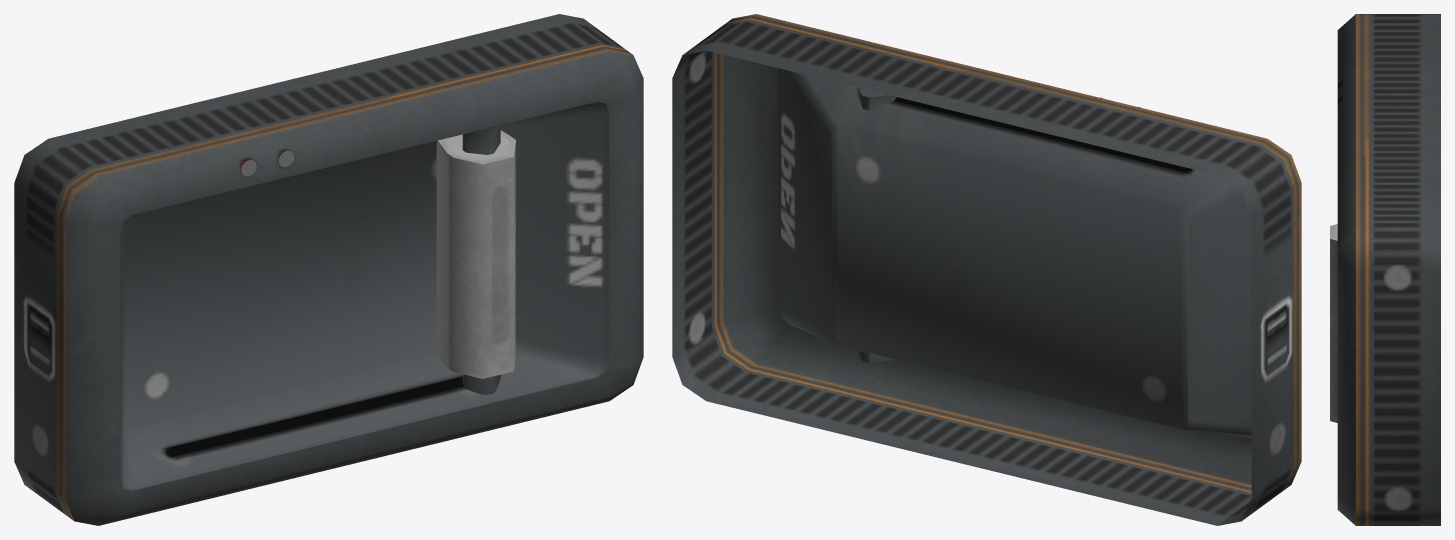
File: Lever B2C.fbx
The picture shows the model from 3 angles, left to right: view 1: azimuth 30°, elevation 25°; view 2: azimuth 150°, elevation 25°; view 3: azimuth 270°, elevation 25°; orthographic projection. The views are drawn at different scales.
Visible parts, largest first — view 1: Lever B2C, LeverHandle B2C; view 2: Lever B2C; view 3: Lever B2C, LeverHandle B2C.
Part boxes in pixels (bbox=[...]): Lever B2C: bbox=[14, 14, 643, 525]; LeverHandle B2C: bbox=[436, 125, 515, 394]; Lever B2C: bbox=[672, 14, 1301, 525]; Lever B2C: bbox=[1337, 14, 1440, 525]; LeverHandle B2C: bbox=[1330, 224, 1337, 422].
Bounding box in the file's own units: 21.6 × 12.5 × 4.22.
3 materials, 1 textured.
